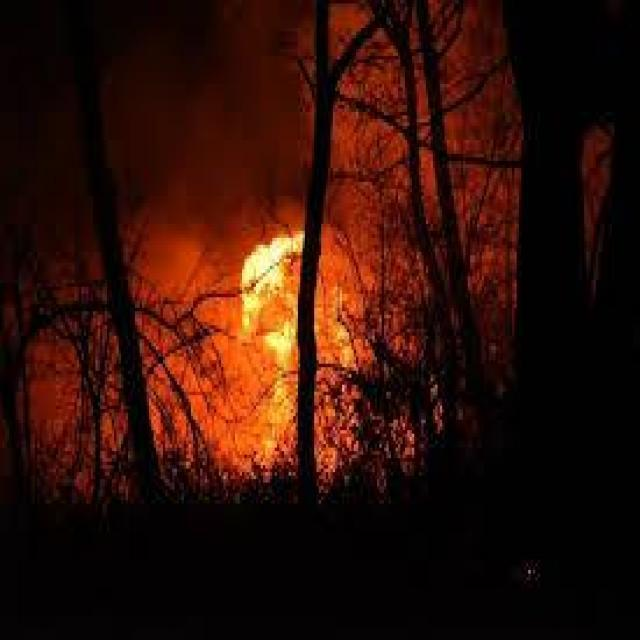Fire: (195, 204, 391, 481)
